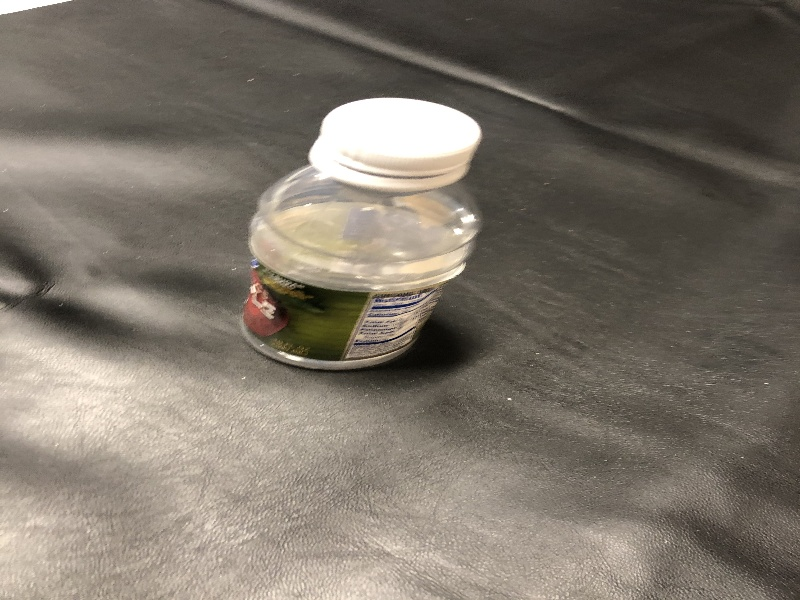plastic: (235, 84, 489, 379)
